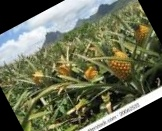Pineapple: (99, 39, 133, 78)
